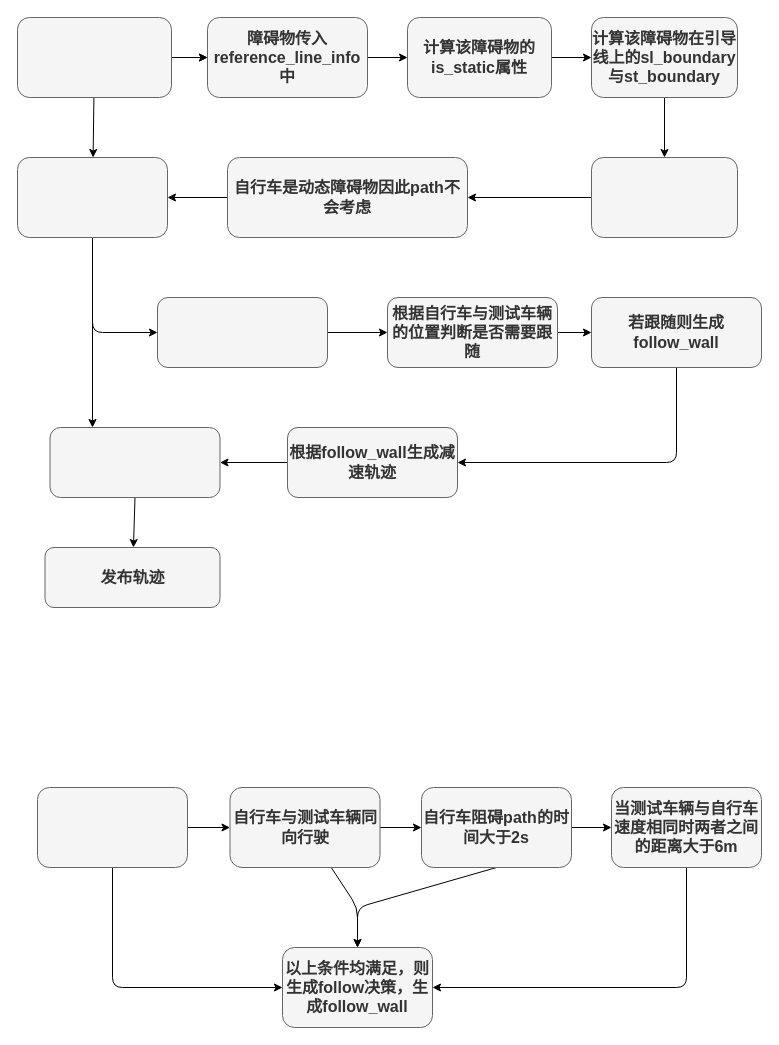
Some shapes in this 779 by 1045 pixel diagram are drawn without their labels. The shapes that lost their labels are listed below. From the top down, each one's box as (x1, y1, x2, y2) in pixels, then its label:
(16, 16, 172, 98): 预测模块输出障碍物信息
(16, 156, 168, 238): 生成path
(590, 156, 738, 238): 根据reference_line_info规划轨迹
(156, 296, 328, 368): 根据path计算自行车的st_boundary()
(49, 426, 220, 498): 综合path与speed生成轨迹
(36, 786, 188, 868): 自行车的与测试车辆之间的距离小于2.5m
